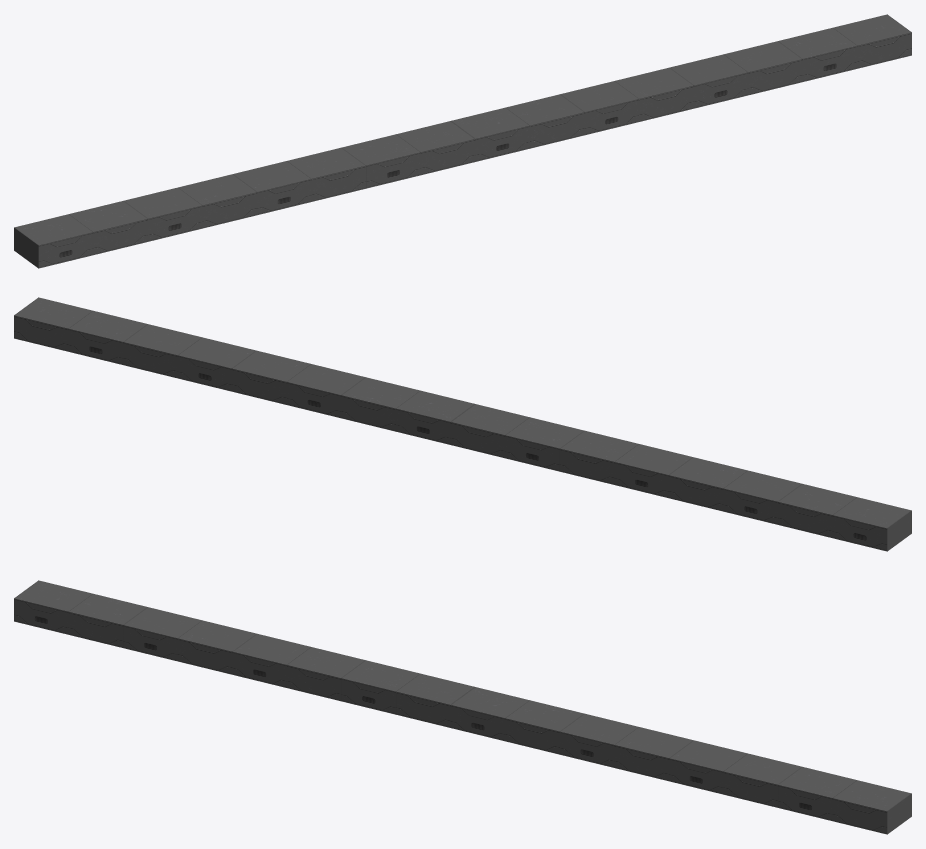
Rendered from jimen1-2.fbx.
The picture shows the model from 3 angles, top to bottom: view 1: azimuth 30°, elevation 25°; view 2: azimuth 150°, elevation 25°; view 3: azimuth 330°, elevation 25°; orthographic projection.
Parts seen in each view (by area): view 1: pCube3; view 2: pCube3; view 3: pCube3.
Part boxes in pixels (left/top/right/bottom): pCube3: left=14, top=14, right=911, bottom=268; pCube3: left=14, top=297, right=911, bottom=551; pCube3: left=14, top=580, right=911, bottom=834.
Bounding box in the file's own units: 52218 × 1319 × 2551.
1 material, 1 textured.
